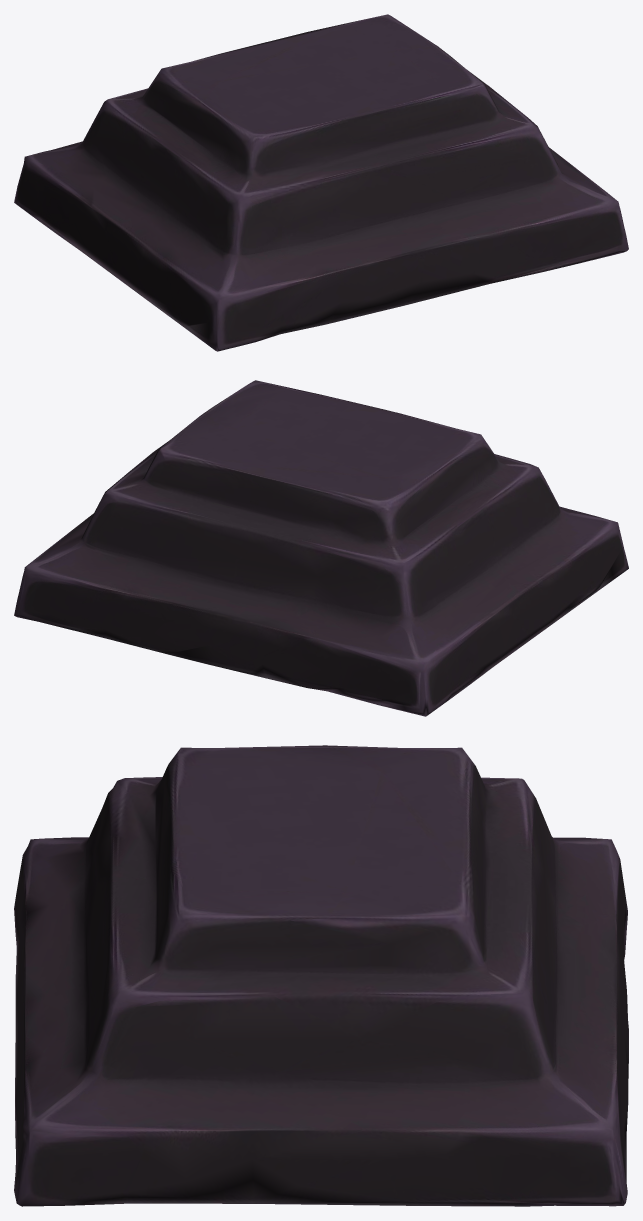
File: court-plinth.glb
3 renders of one model, top to bottom at view 1: azimuth 30°, elevation 25°; view 2: azimuth 150°, elevation 25°; view 3: azimuth 270°, elevation 25°, orthographic. The views are drawn at different scales.
Visible parts, largest first — view 1: tripo_node_e3c9196b-30f6-4a71-adca-62bf8fc0ebf3; view 2: tripo_node_e3c9196b-30f6-4a71-adca-62bf8fc0ebf3; view 3: tripo_node_e3c9196b-30f6-4a71-adca-62bf8fc0ebf3.
Boxes of the visible parts, x1,y1,x2,y2 form: tripo_node_e3c9196b-30f6-4a71-adca-62bf8fc0ebf3: [14, 14, 628, 351]; tripo_node_e3c9196b-30f6-4a71-adca-62bf8fc0ebf3: [14, 380, 628, 716]; tripo_node_e3c9196b-30f6-4a71-adca-62bf8fc0ebf3: [14, 745, 628, 1206].
Size of the model in its own units: 0.9804 by 0.3398 by 0.8378.
Materials: 1 (1 with a texture image).
